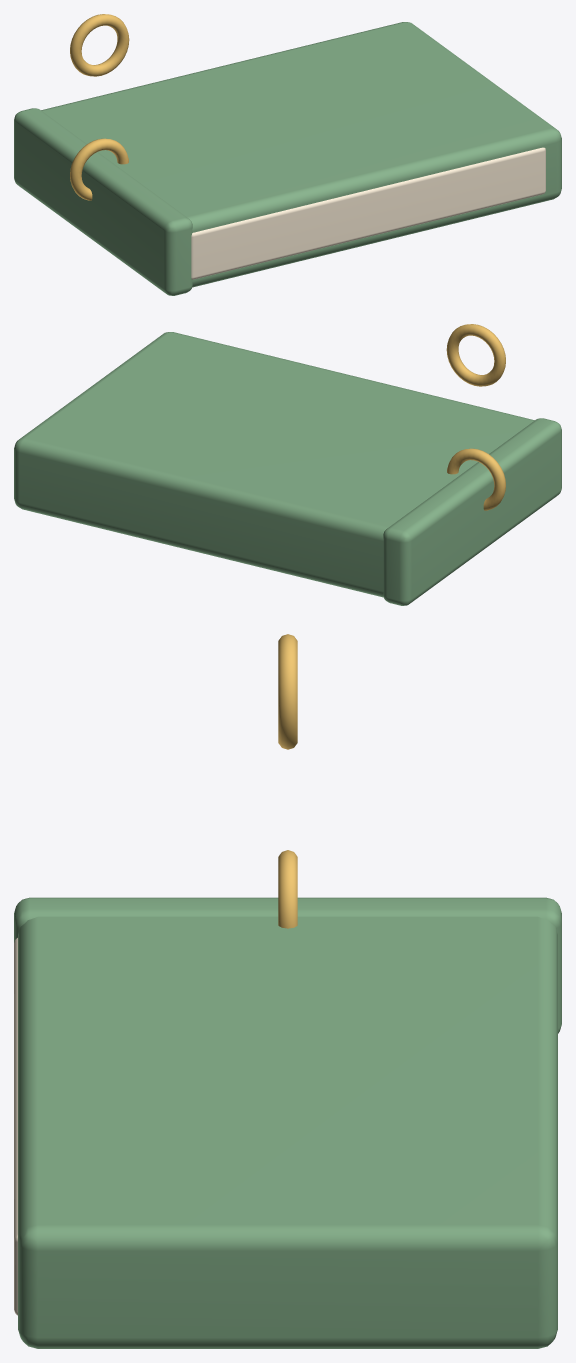
Rendered from booksRingBinderGreen.glb.
The picture shows the model from 3 angles, top to bottom: view 1: azimuth 30°, elevation 25°; view 2: azimuth 150°, elevation 25°; view 3: azimuth 270°, elevation 25°; orthographic projection. The views are drawn at different scales.
Visible parts, largest first — view 1: Book cover, Pages, Spine, Binder ring.001, Binder ring; view 2: Book cover, Spine, Binder ring.001, Binder ring; view 3: Book cover, Spine, Binder ring.001, Binder ring, Pages.
Part boxes in pixels (left/top/right/bottom): Book cover: left=41, top=22, right=561, bottom=287; Pages: left=191, top=147, right=545, bottom=279; Spine: left=14, top=108, right=192, bottom=295; Binder ring.001: left=70, top=14, right=129, bottom=76; Binder ring: left=70, top=138, right=128, bottom=200; Book cover: left=14, top=332, right=534, bottom=597; Spine: left=383, top=418, right=561, bottom=605; Binder ring.001: left=446, top=324, right=505, bottom=386; Binder ring: left=447, top=448, right=505, bottom=510; Book cover: left=18, top=916, right=557, bottom=1348; Spine: left=14, top=897, right=561, bottom=1033; Binder ring.001: left=278, top=634, right=297, bottom=749; Binder ring: left=278, top=850, right=297, bottom=928; Pages: left=14, top=938, right=17, bottom=1315.
Size of the model in its own units: 1.05 by 0.543 by 0.69.
